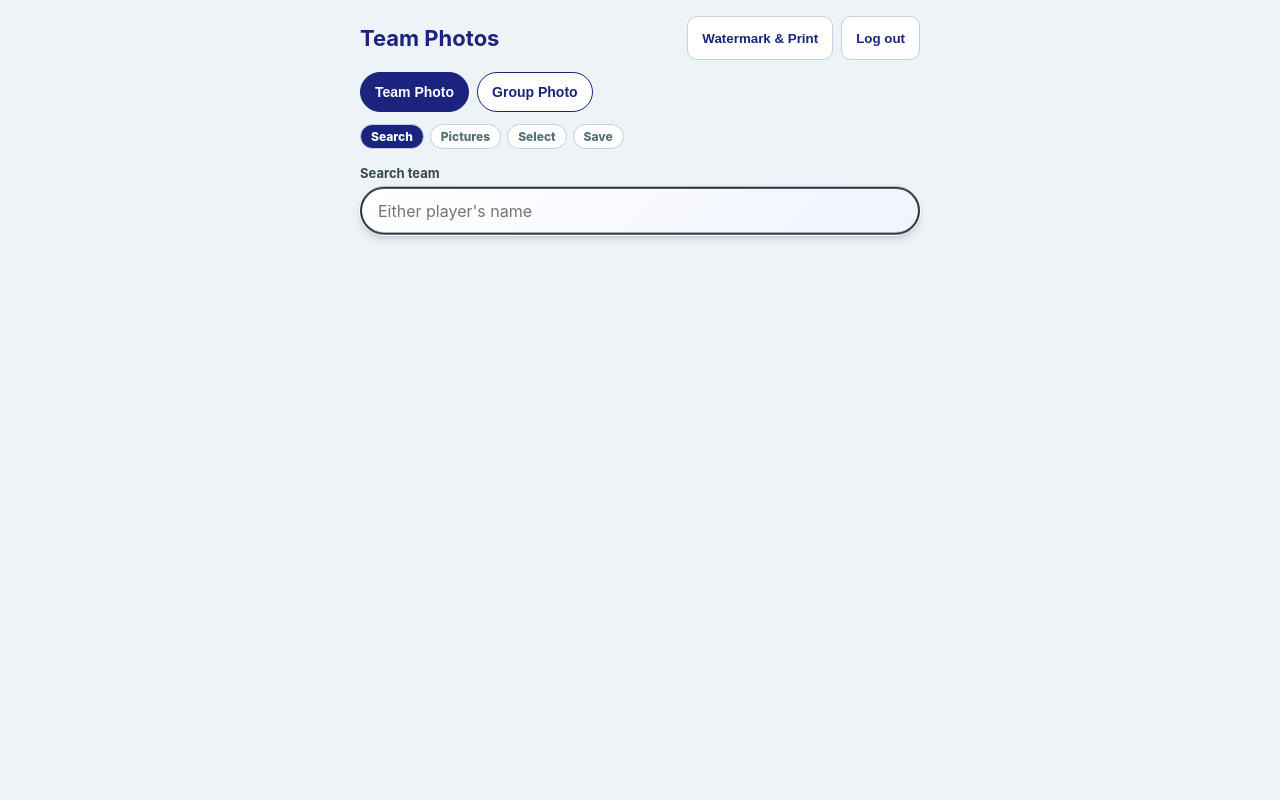
Test: delete official team photo › asks for confirmation and leaves the photograph in place when cancelled
Type "Jane" into the field with placeholder "Either player's name".
click(640, 210); type("Jane")  # box x1=360 y1=186 x2=920 y2=234
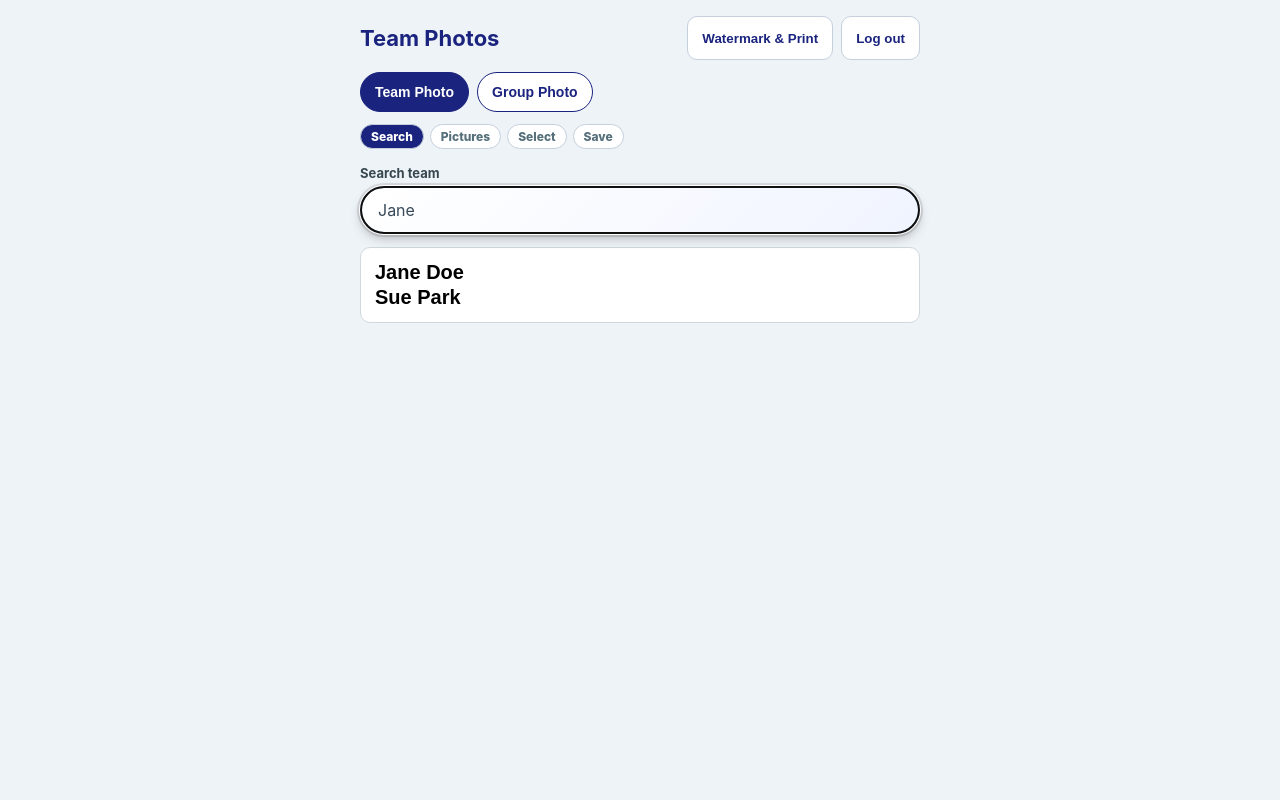
Click the button "Jane Doe Sue Park".
click(419, 272)  # box x1=360 y1=247 x2=920 y2=323
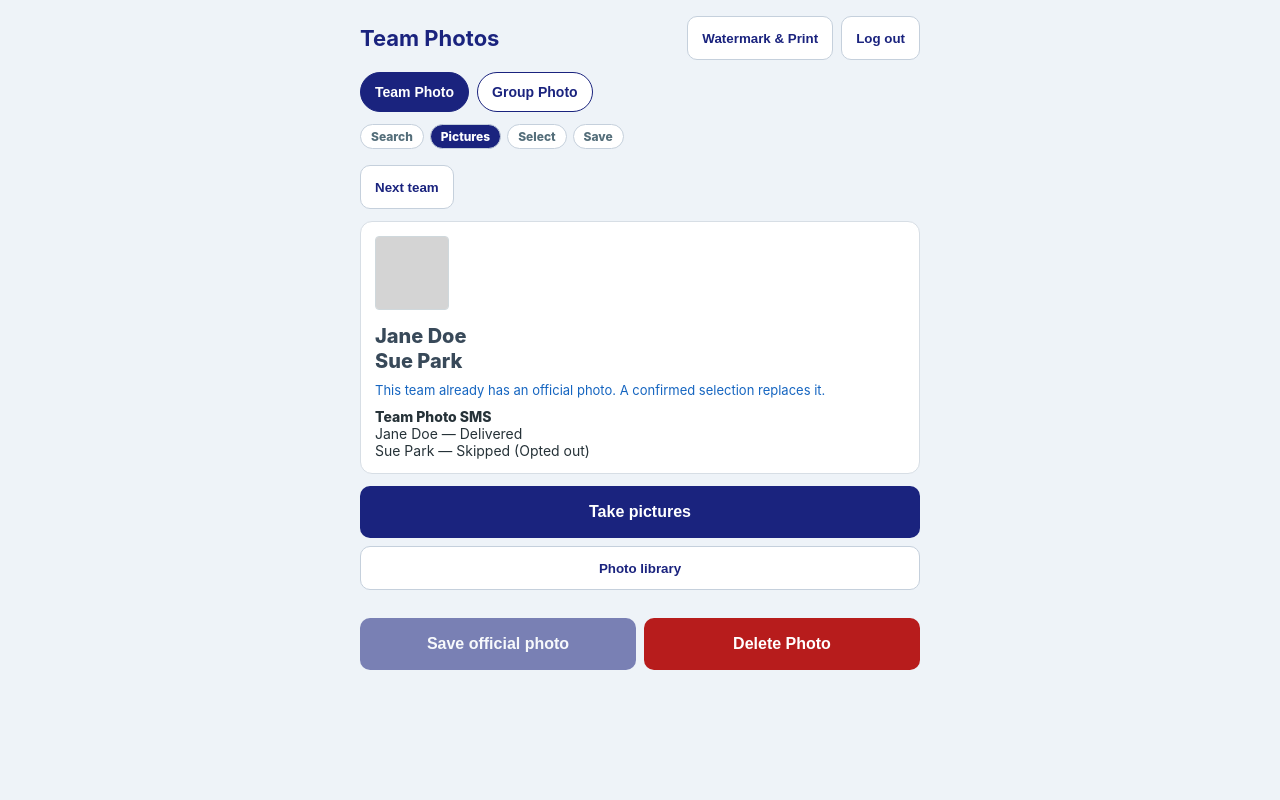
Expected: the button "Delete Photo" is shown
Click the button "Delete Photo".
click(782, 644)  # box x1=644 y1=618 x2=920 y2=670
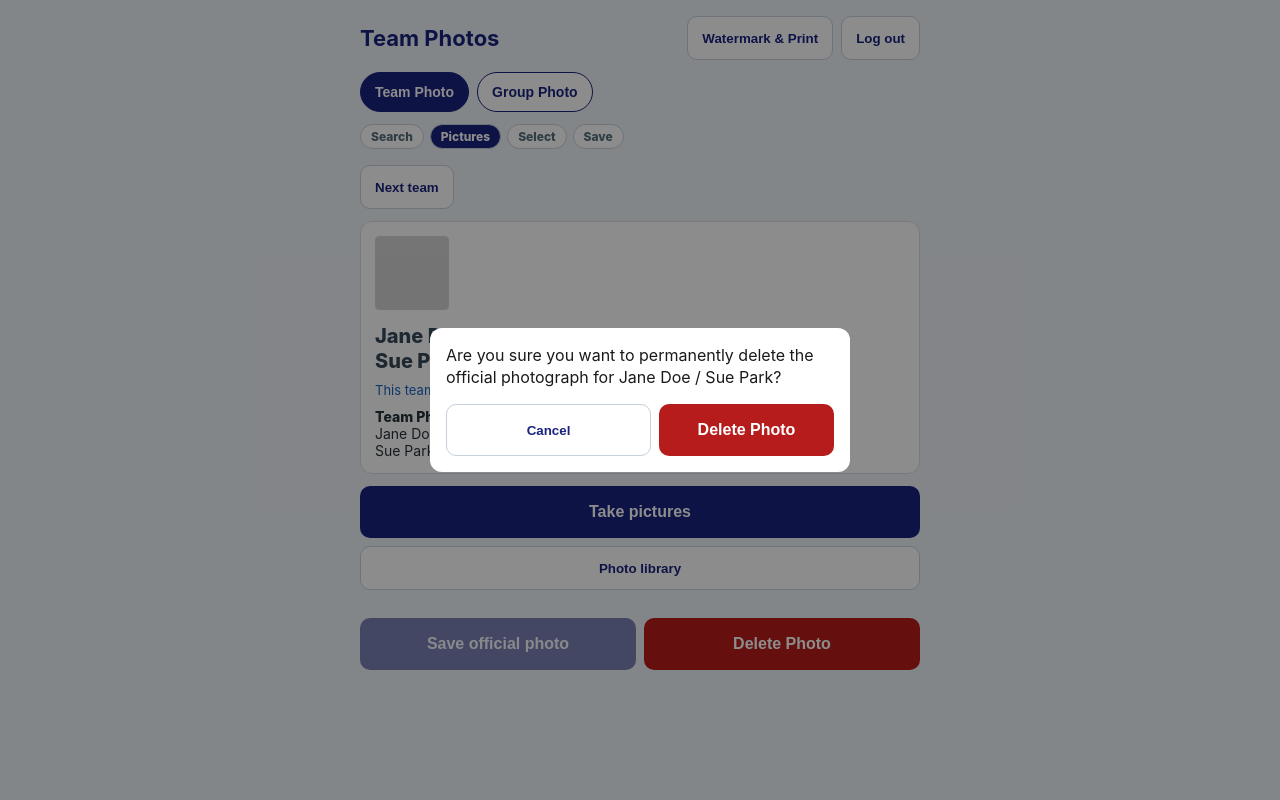
Expected: the dialog named "Delete official photo" shows "Are you sure you want to permanently delete the official photograph for Jane Doe / Sue Park?"
Click the button "Cancel".
click(548, 430)  # box x1=446 y1=404 x2=651 y2=456
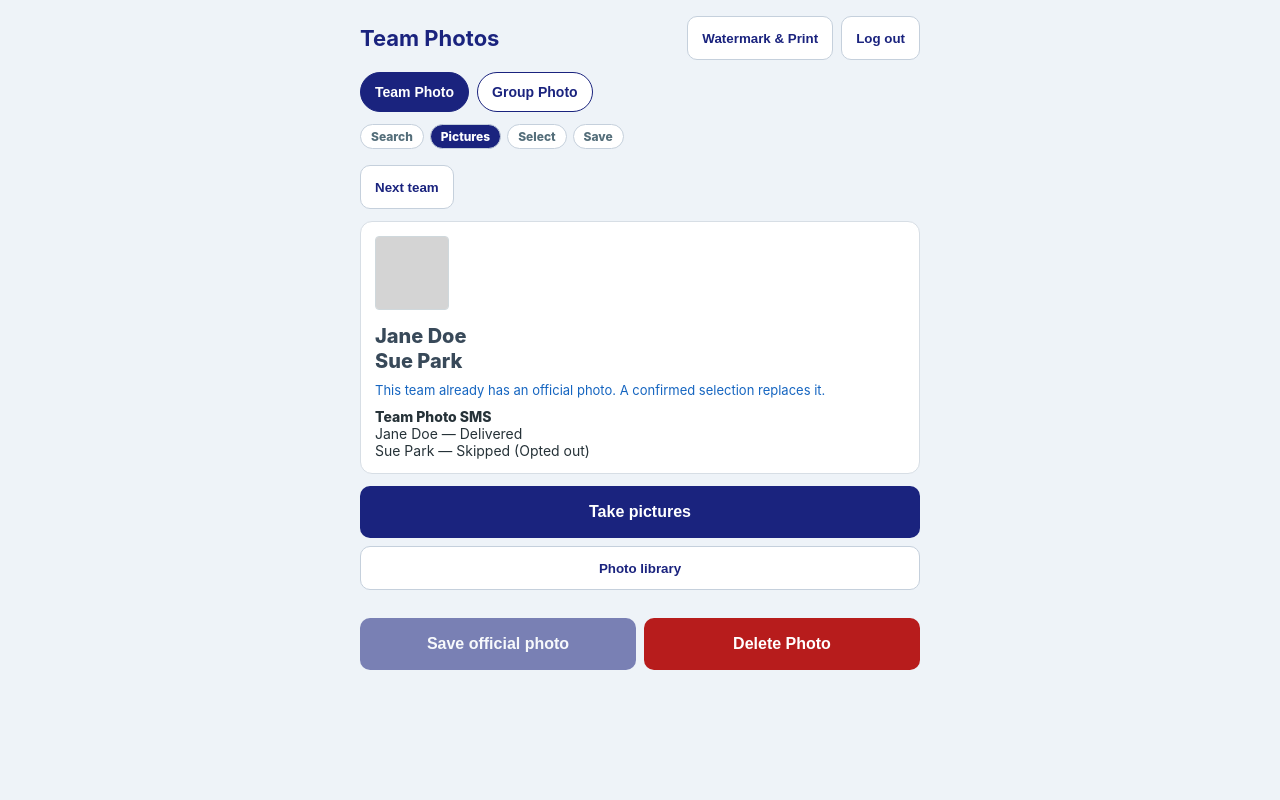
Expected: the button "Save official photo" is shown, x1=360 y1=618 x2=636 y2=670
Expected: the dialog is gone
